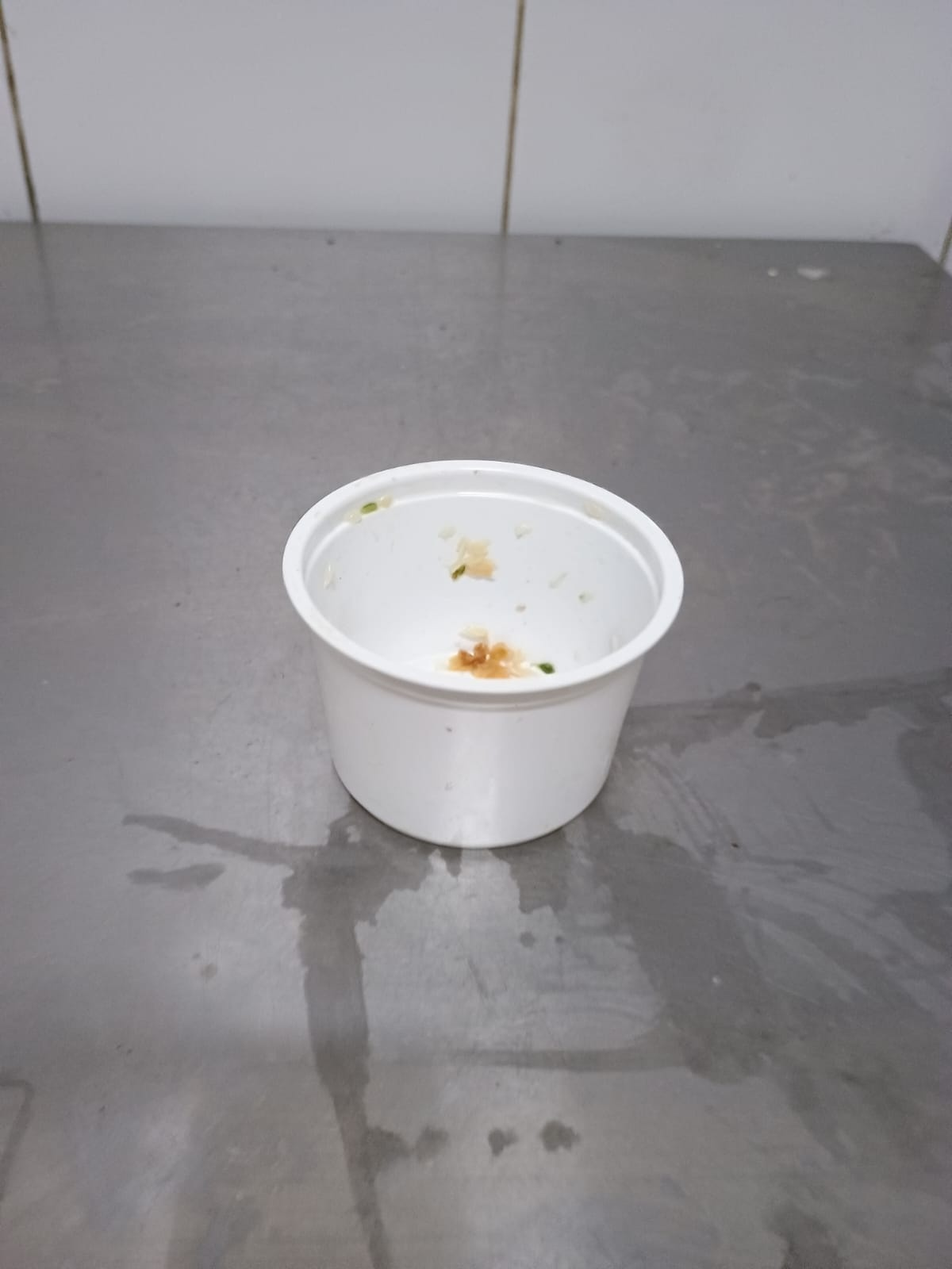Plastico: (281, 457, 685, 848)
